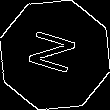N_E: (25, 28, 85, 82)
